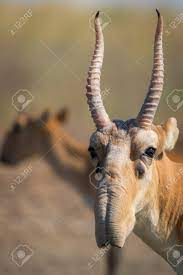saiga: (84, 9, 183, 275)
